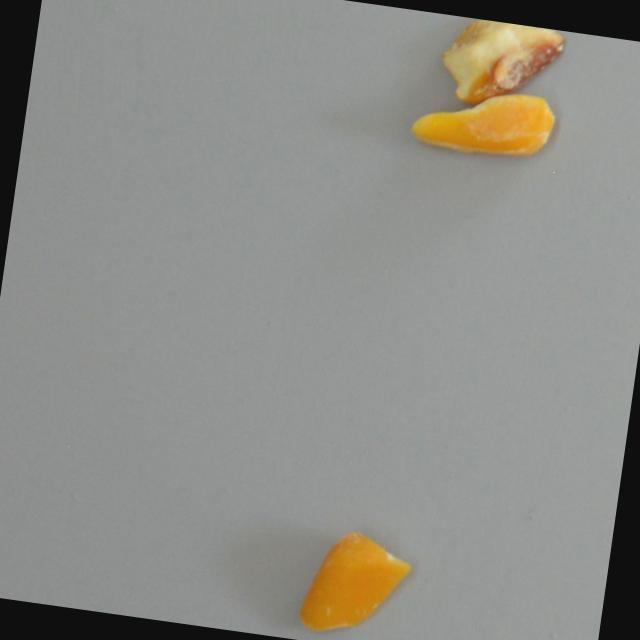dañado: (435, 15, 565, 114)
pelicula: (403, 74, 560, 166), (296, 525, 415, 640)
